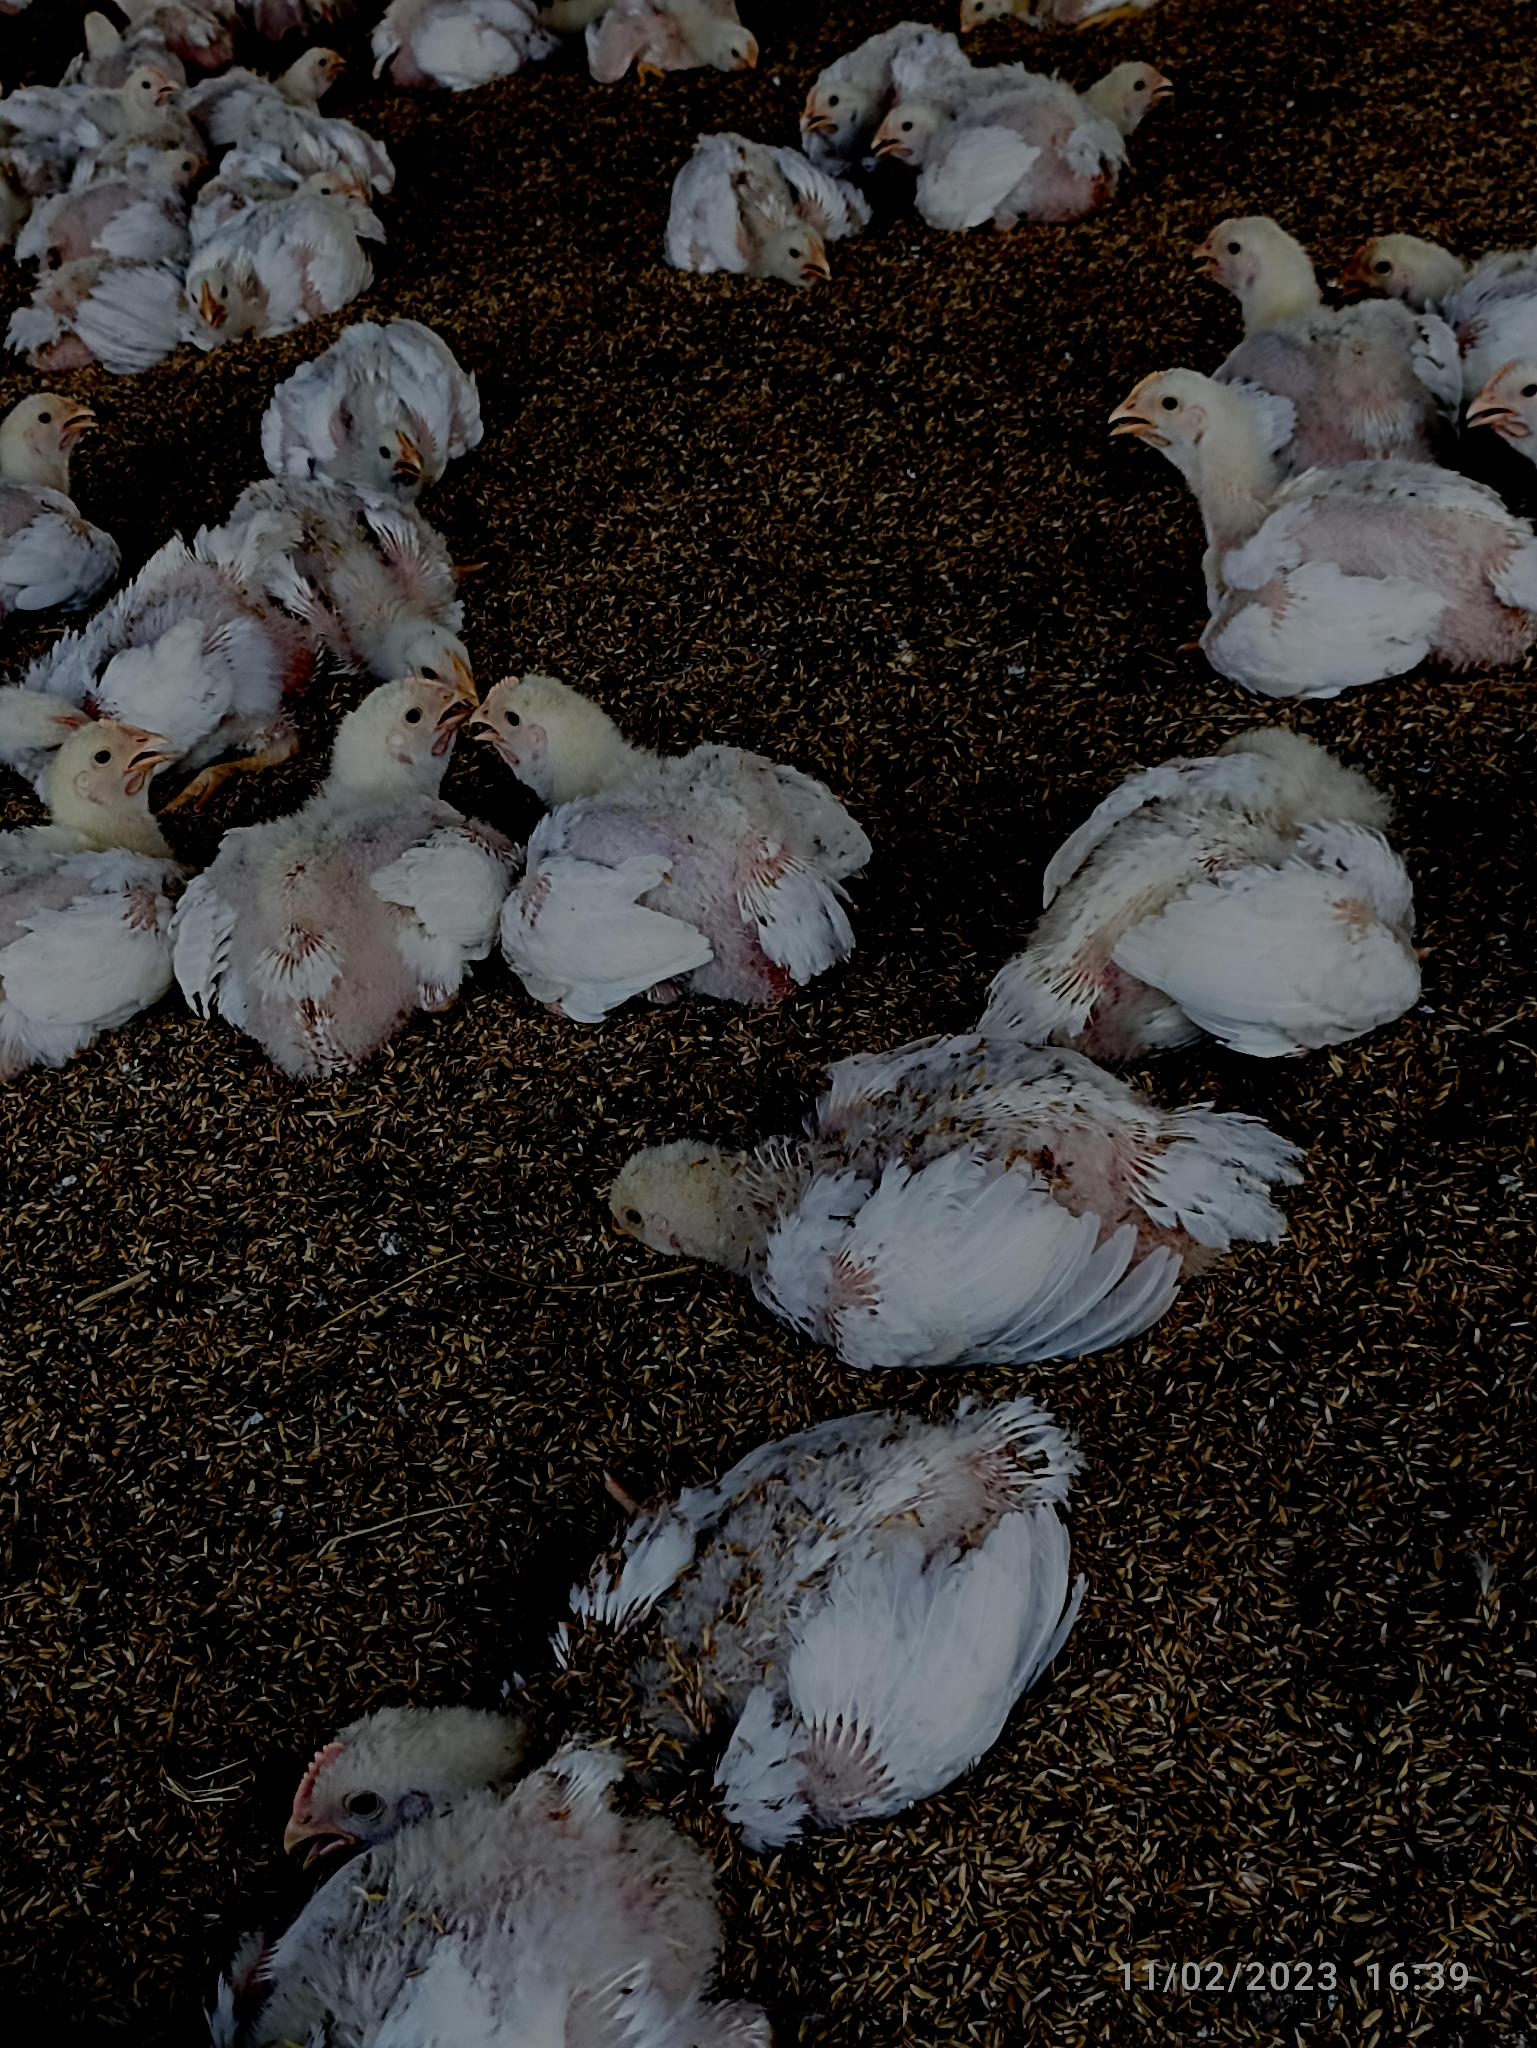Pollos: (287, 1407, 1093, 1867), (610, 1039, 1303, 1377), (977, 725, 1414, 1046), (468, 663, 875, 1005), (1117, 366, 1537, 697), (176, 675, 491, 1059), (19, 713, 176, 1094), (278, 320, 484, 486), (877, 95, 1140, 215), (173, 189, 354, 357), (675, 136, 885, 278), (2, 389, 132, 616), (1195, 205, 1371, 373)
